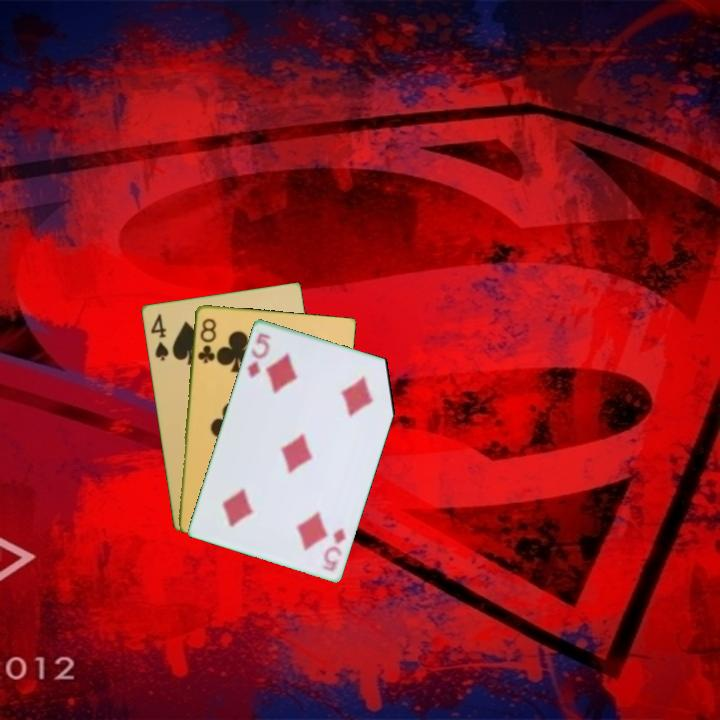4s: (147, 310, 171, 364)
5d: (244, 329, 274, 381), (319, 524, 349, 574)
8c: (194, 315, 219, 366)
